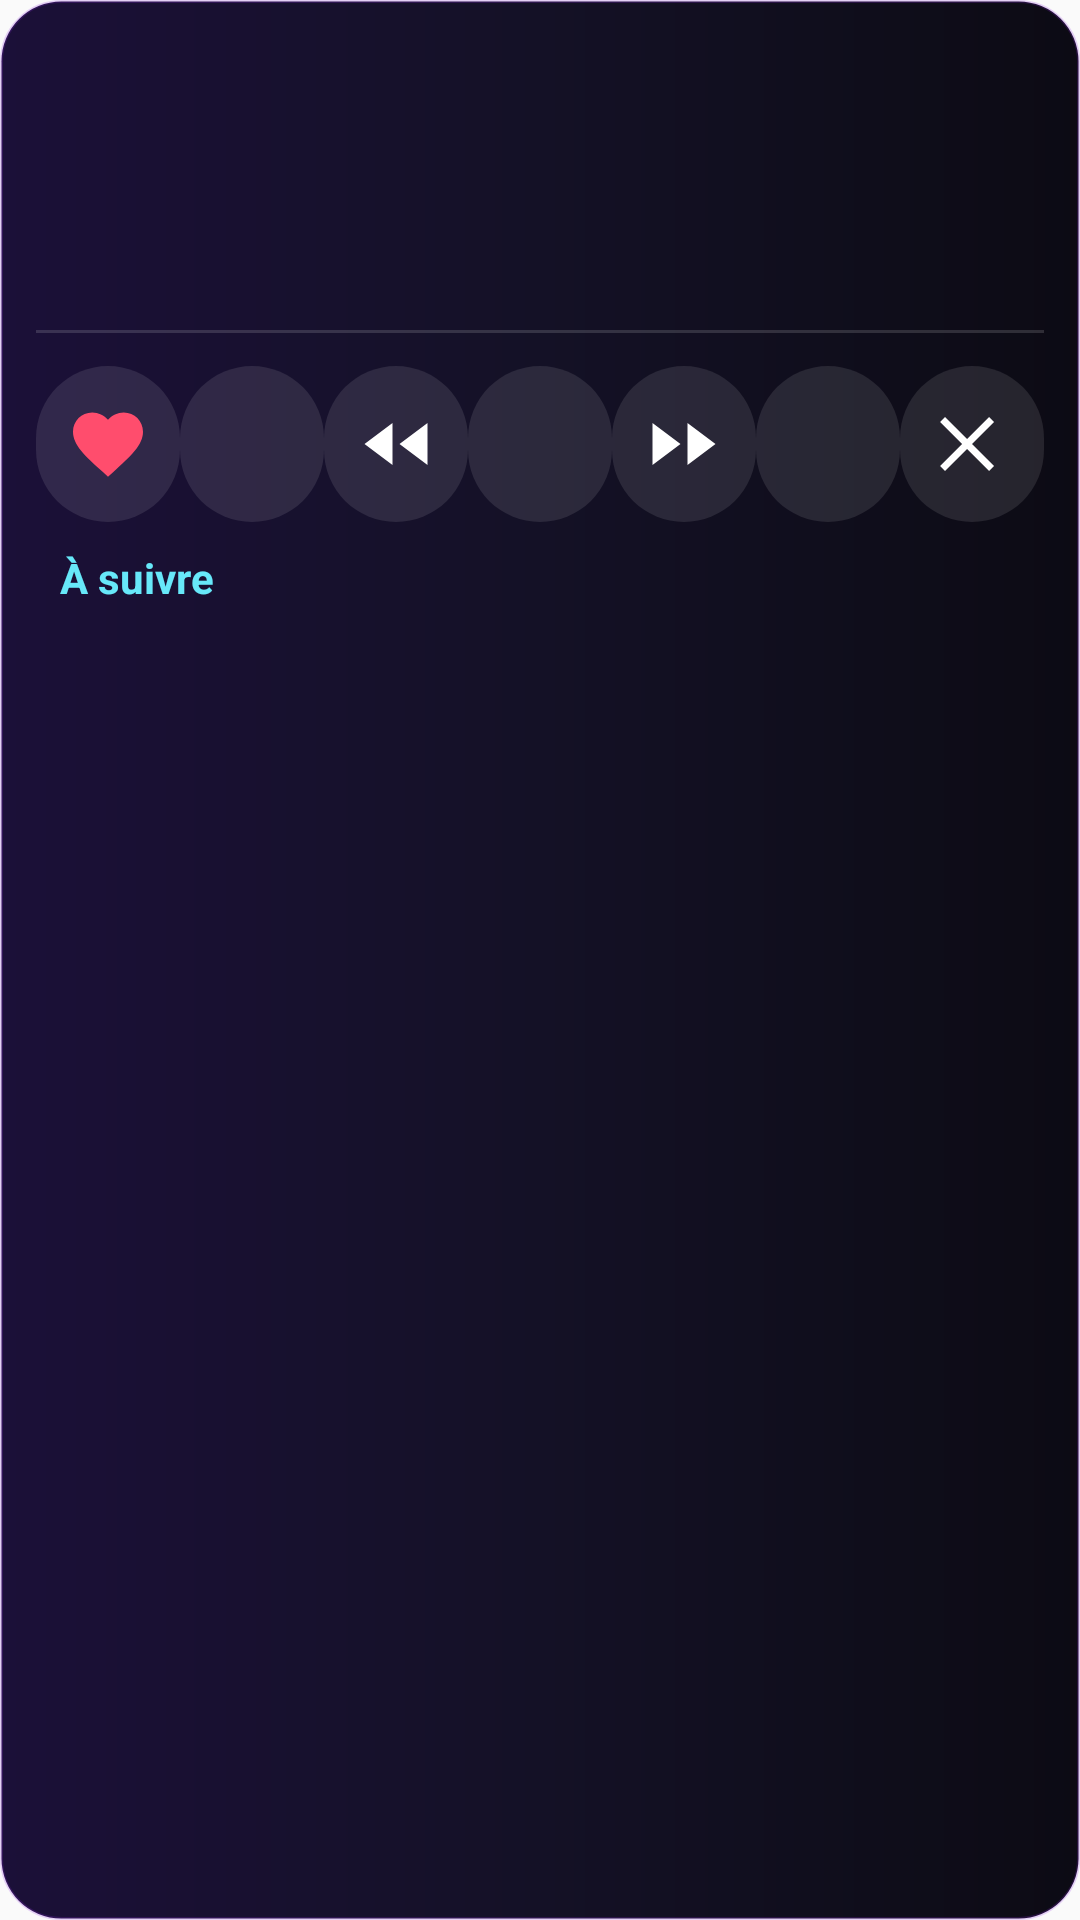

Named icons in this screenshot (1080px×1920px) and their centers, (x,y):
Ajouter ou retirer des favoris: (108,444)
Arrêter la lecture: (972,444)
Avancer de 10 secondes: (684,444)
Reculer de 10 secondes: (376,443)
